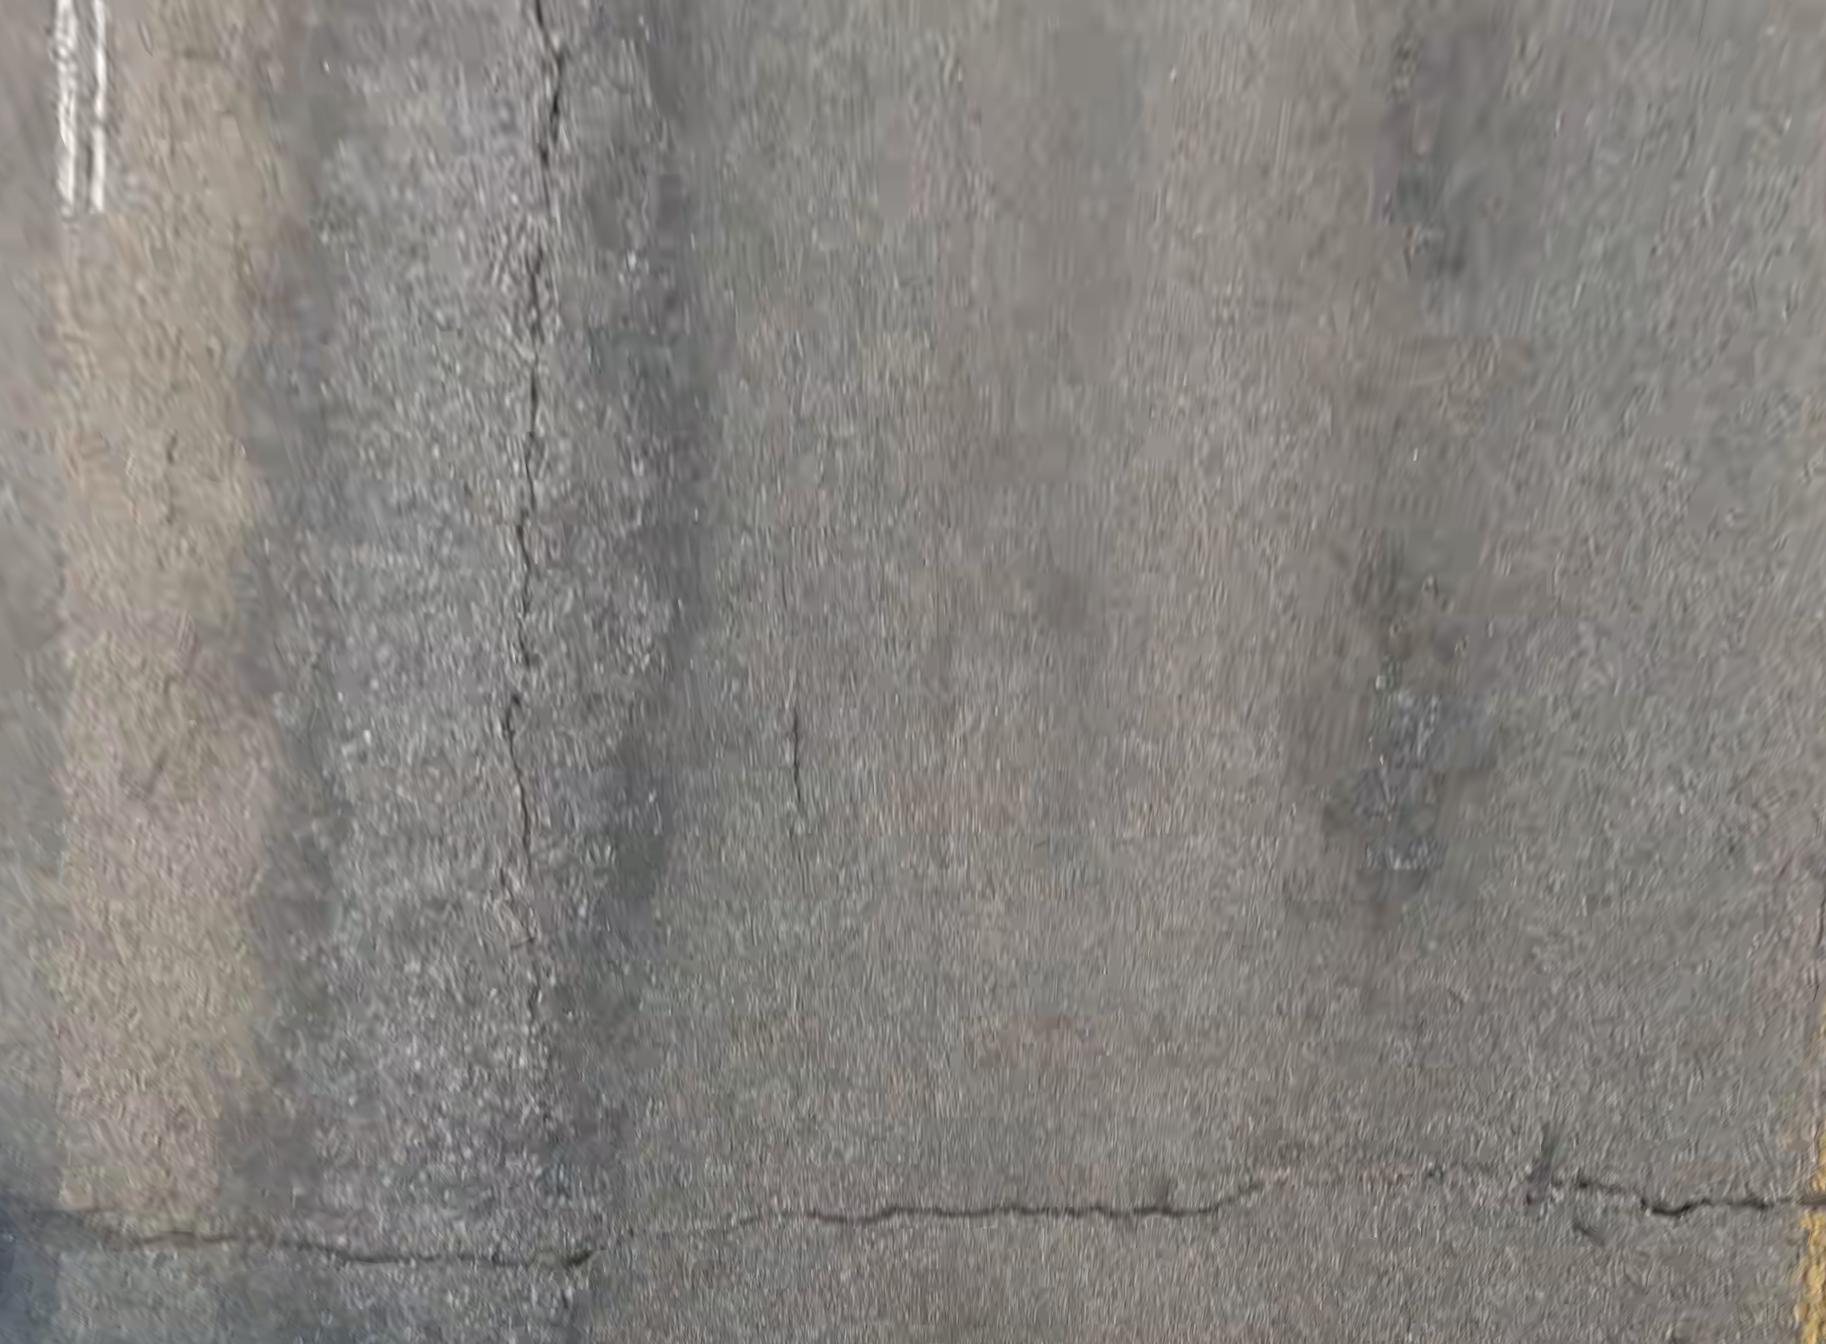pothole_patch_poor: (218, 1, 710, 1341)
